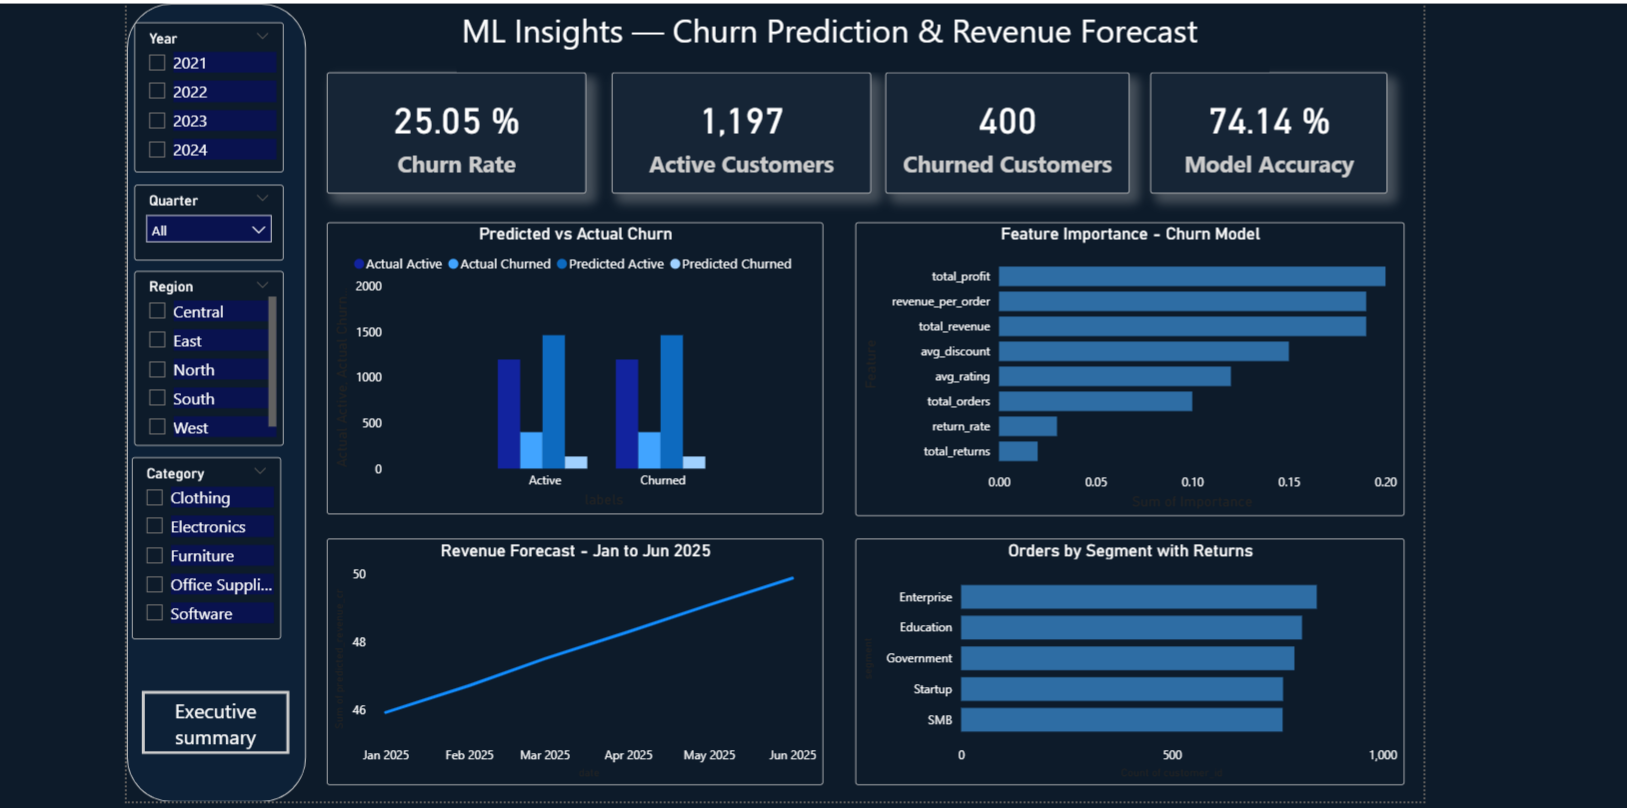

Layout of this report page (visuals, bound fields, positions):
{"tool":"powerbi","page":{"name":"ML Insights","canvas":[1300,800],"ordinal":1},"visuals":[{"type":"shape","box":[0,0,179.7,800.3],"z":0},{"type":"slicer","fields":{"Values":["public sales_data.order_year"]},"box":[6.9,19.4,149.3,150.7],"z":1000},{"type":"slicer","fields":{"Values":["public sales_data.order_quarter"]},"box":[6.9,181.1,149.3,76],"z":2000},{"type":"slicer","fields":{"Values":["public sales_data.region"]},"box":[6.9,268.1,149.3,175.5],"z":3000},{"type":"slicer","fields":{"Values":["public sales_data.category"]},"box":[5.5,454.7,149.3,182.4],"z":4000},{"type":"card","fields":{"Values":["churn_predictions.Churn Rate"]},"box":[200.4,69.1,259.8,121.6],"z":5000},{"type":"card","fields":{"Values":["churn_predictions.Active Customers"]},"box":[486.5,69.1,259.8,121.6],"z":6000},{"type":"card","fields":{"Values":["churn_predictions.Churned Customers"]},"box":[760.2,69.1,244.6,121.6],"z":7000},{"type":"card","fields":{"Values":["churn_predictions.Model Accuracy"]},"box":[1025.6,69.1,237.7,121.6],"z":8000},{"type":"clusteredColumnChart","title":"Predicted vs Actual Churn","fields":{"Category":["Table.labels"],"Y":["churn_predictions.Actual Active","churn_predictions.Actual Churned","churn_predictions.Predicted Active","churn_predictions.Predicted Churned"]},"box":[200.4,219.8,497.6,293],"z":9000},{"type":"clusteredBarChart","title":"Feature Importance - Churn Model","fields":{"Category":["feature_importance.Feature"],"Y":["Sum(feature_importance.Importance)"]},"box":[729.8,219.8,550.1,294.4],"z":10000},{"type":"lineChart","title":"Revenue Forecast - Jan to Jun 2025","fields":{"Y":["Sum(sales_forecast.predicted_revenue_cr)"],"Category":["sales_forecast.date"]},"box":[200.4,536.3,497.6,247.4],"z":11000},{"type":"clusteredBarChart","title":"Orders by Segment with Returns","fields":{"Category":["public sales_data.segment"],"Y":["CountNonNull(public sales_data.customer_id)"]},"box":[729.8,536.3,550.1,247.4],"z":12000},{"type":"actionButton","box":[15.2,688.3,147.9,63.6],"z":13000},{"type":"textbox","box":[330.3,0,814.1,69.1],"z":13001}]}

Visuals, with their boxes on the page's 1300x800 design canvas (x1, y1, x2, y2). These are canvas units, not pixel positions in the 1627x808 screenshot, which may show the page scaled, cropped or inside an application window:
shape: [0,0,180,800]
slicer - public sales_data.order_year: [7,19,156,170]
slicer - public sales_data.order_quarter: [7,181,156,257]
slicer - public sales_data.region: [7,268,156,444]
slicer - public sales_data.category: [6,455,155,637]
card - churn_predictions.Churn Rate: [200,69,460,191]
card - churn_predictions.Active Customers: [486,69,746,191]
card - churn_predictions.Churned Customers: [760,69,1005,191]
card - churn_predictions.Model Accuracy: [1026,69,1263,191]
"Predicted vs Actual Churn" clusteredColumnChart: [200,220,698,513]
"Feature Importance - Churn Model" clusteredBarChart: [730,220,1280,514]
"Revenue Forecast - Jan to Jun 2025" lineChart: [200,536,698,784]
"Orders by Segment with Returns" clusteredBarChart: [730,536,1280,784]
actionButton: [15,688,163,752]
textbox: [330,0,1144,69]
